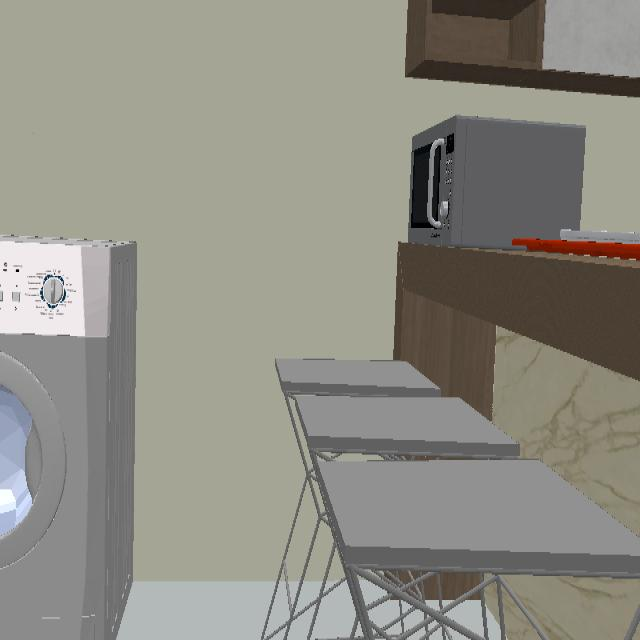microwave: (408, 116, 589, 252)
